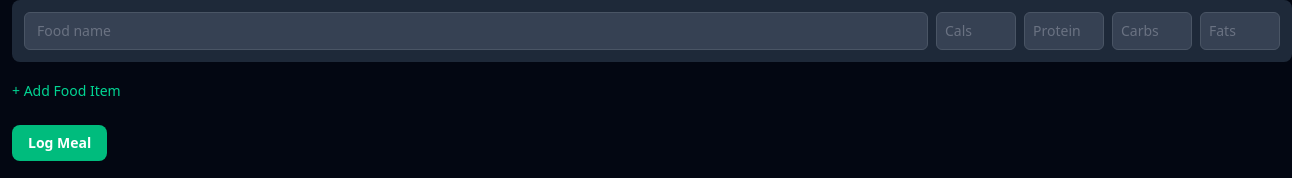
MealForm › form submission › shows loading state during submission
Type "Oatmeal" into the field with placeholder "Food name" at [476, 31], box [24,12,928,50]
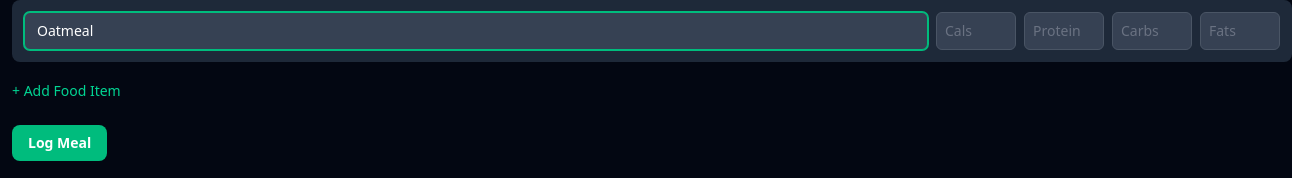
// Fire click without awaiting to catch the loading state
Click the button "Log Meal" at [60, 143], box [12,125,107,161]
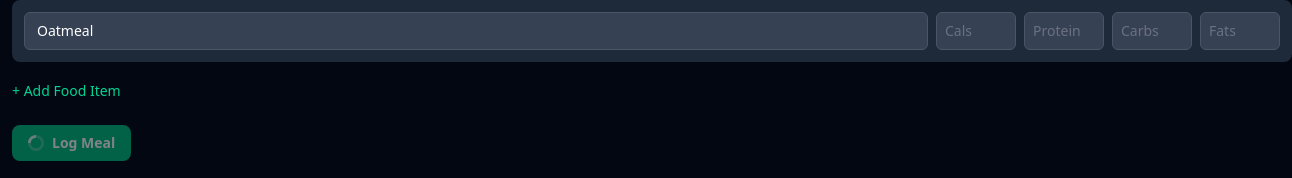
Expected: the button "Log Meal" is disabled, [12,125,131,161]
